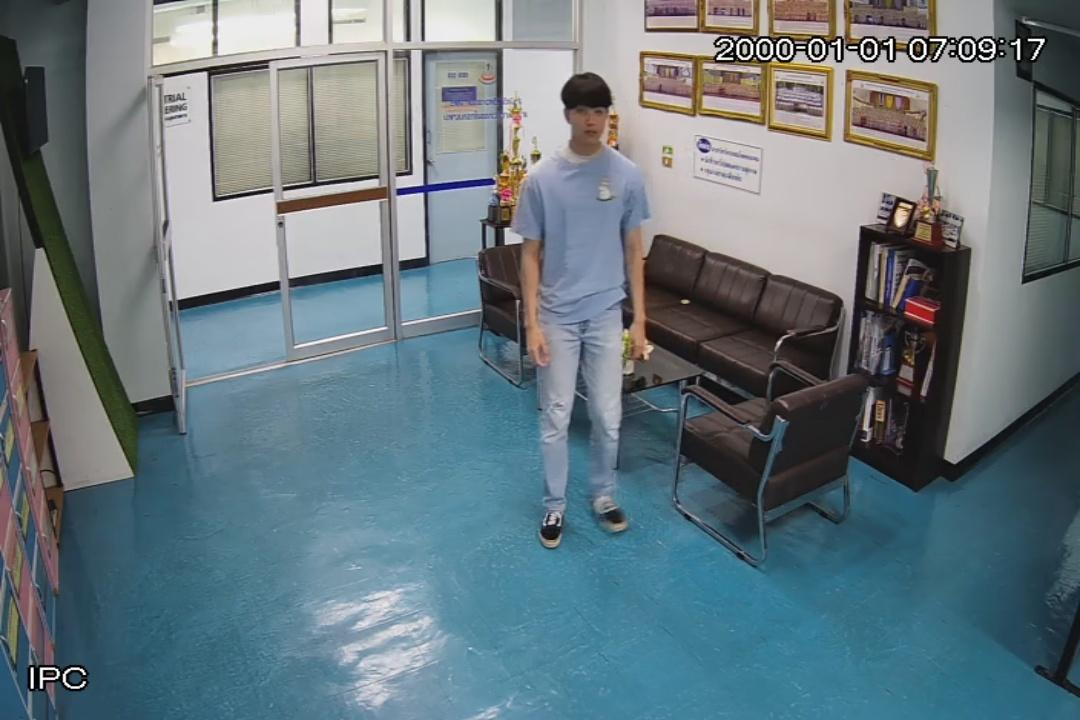normal: (518, 70, 651, 551)
